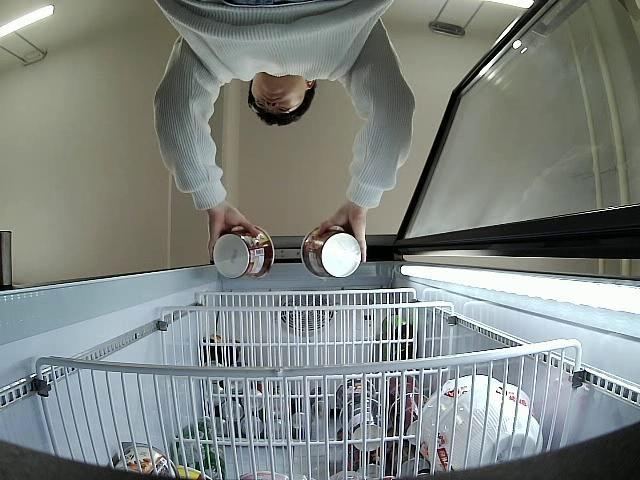05_nuguri_L: (212, 224, 274, 280), (300, 224, 362, 280)
